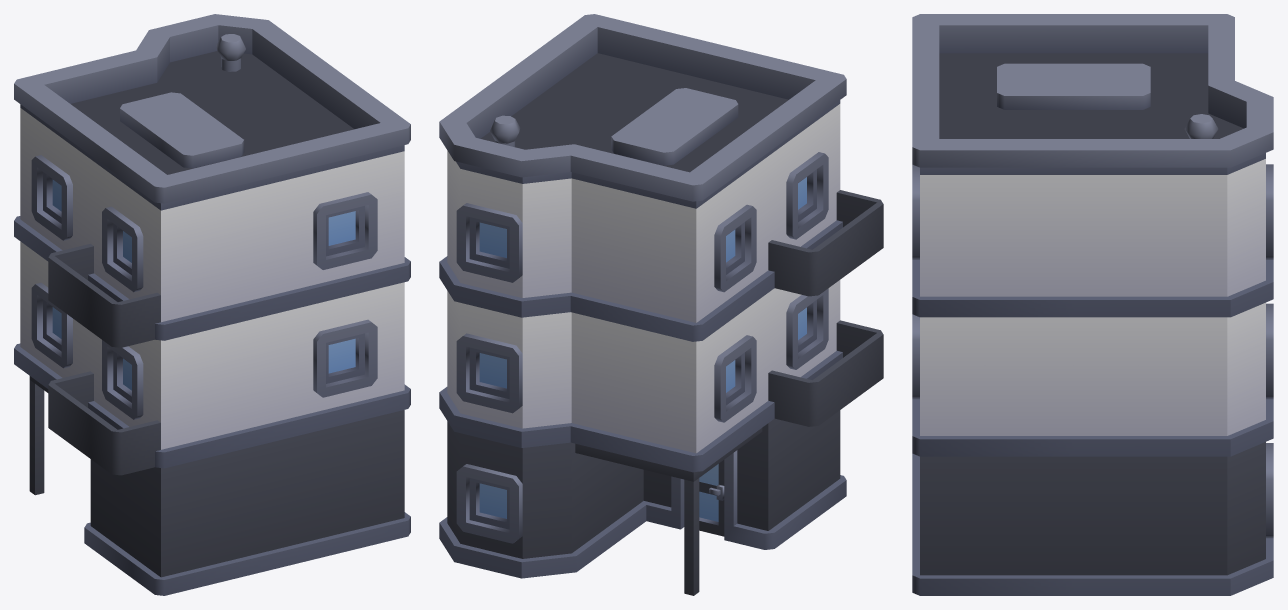
The model's file is building-b.glb.
3 views of the same model, side by side, from view 1: azimuth 30°, elevation 25°; view 2: azimuth 150°, elevation 25°; view 3: azimuth 270°, elevation 25° (orthographic). The views are drawn at different scales.
Parts seen in each view (by area): view 1: building-b; view 2: building-b; view 3: building-b.
Part boxes in pixels (left/top/right/bottom): building-b: left=14, top=14, right=410, bottom=595; building-b: left=439, top=14, right=883, bottom=595; building-b: left=912, top=14, right=1273, bottom=595.
Bounding box in the file's own units: 0.9701 × 1.29 × 0.94.
1 material, 1 textured.
